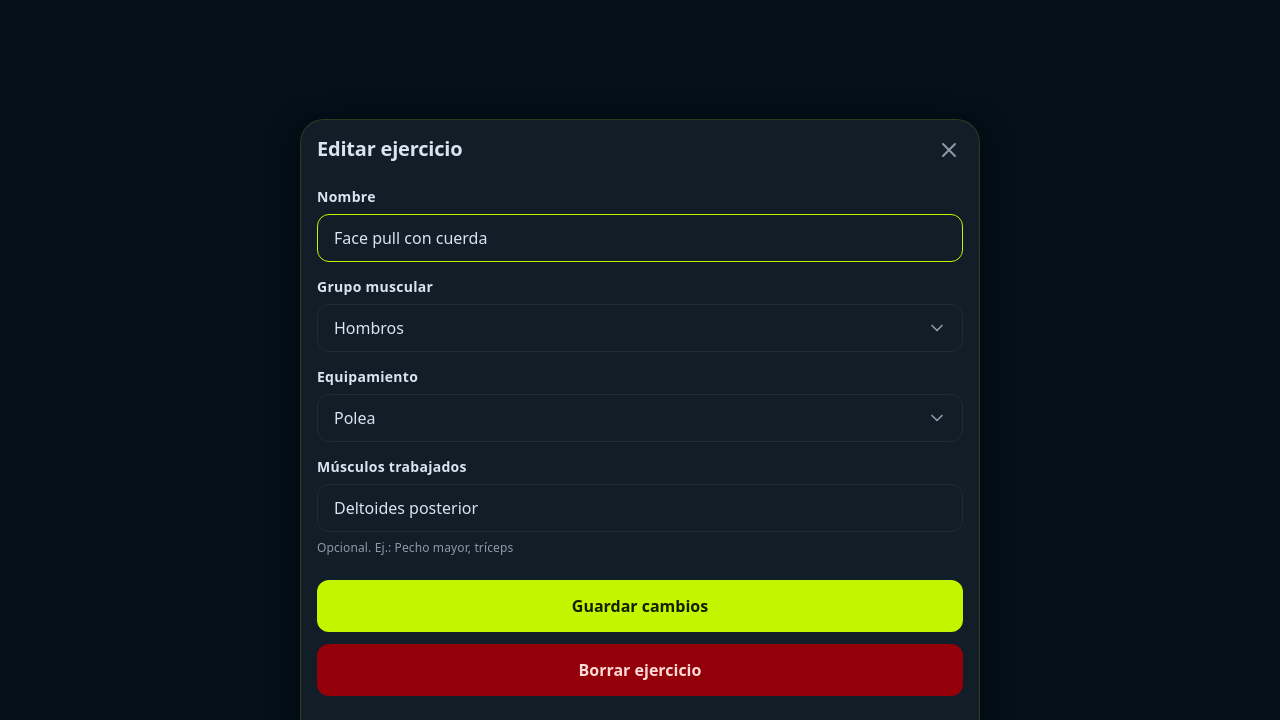
Test: ExerciseSheet: editar › no deja vaciar el nombre al editar
Clear the field labelled "Nombre": (640, 238) left=317, top=214, right=963, bottom=262
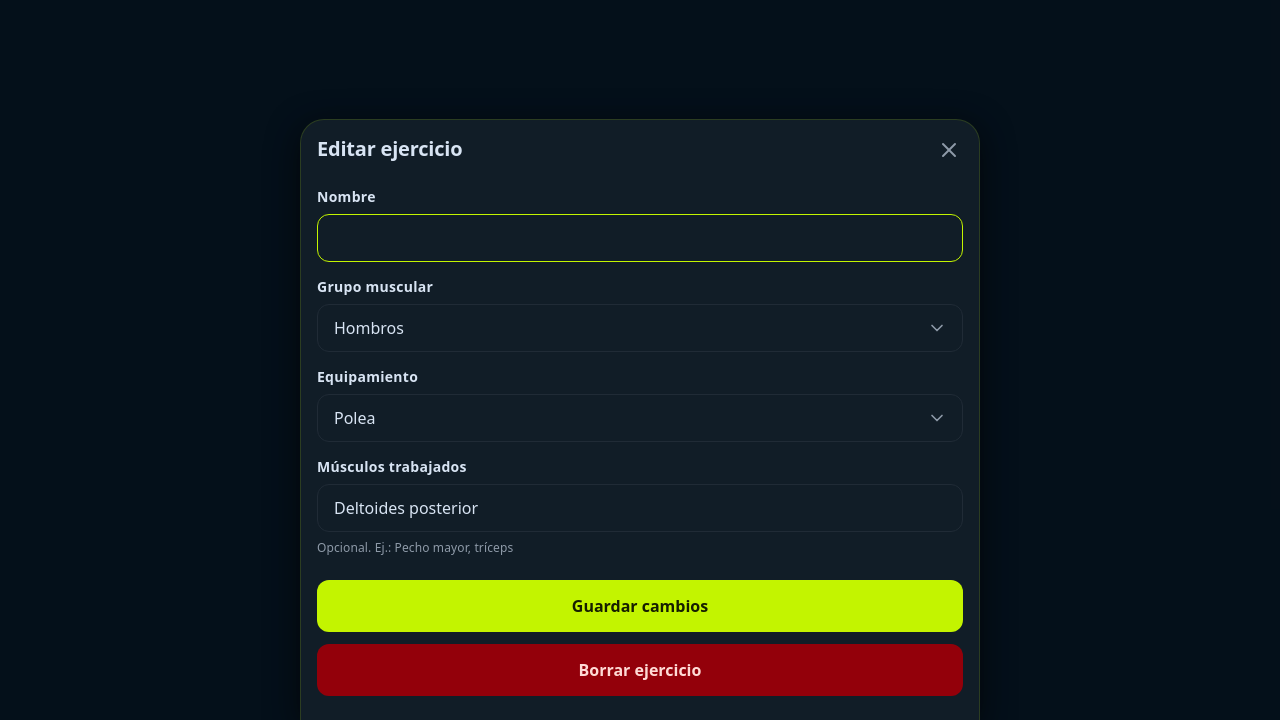
Click the button "Guardar cambios": (640, 606) left=317, top=580, right=963, bottom=632
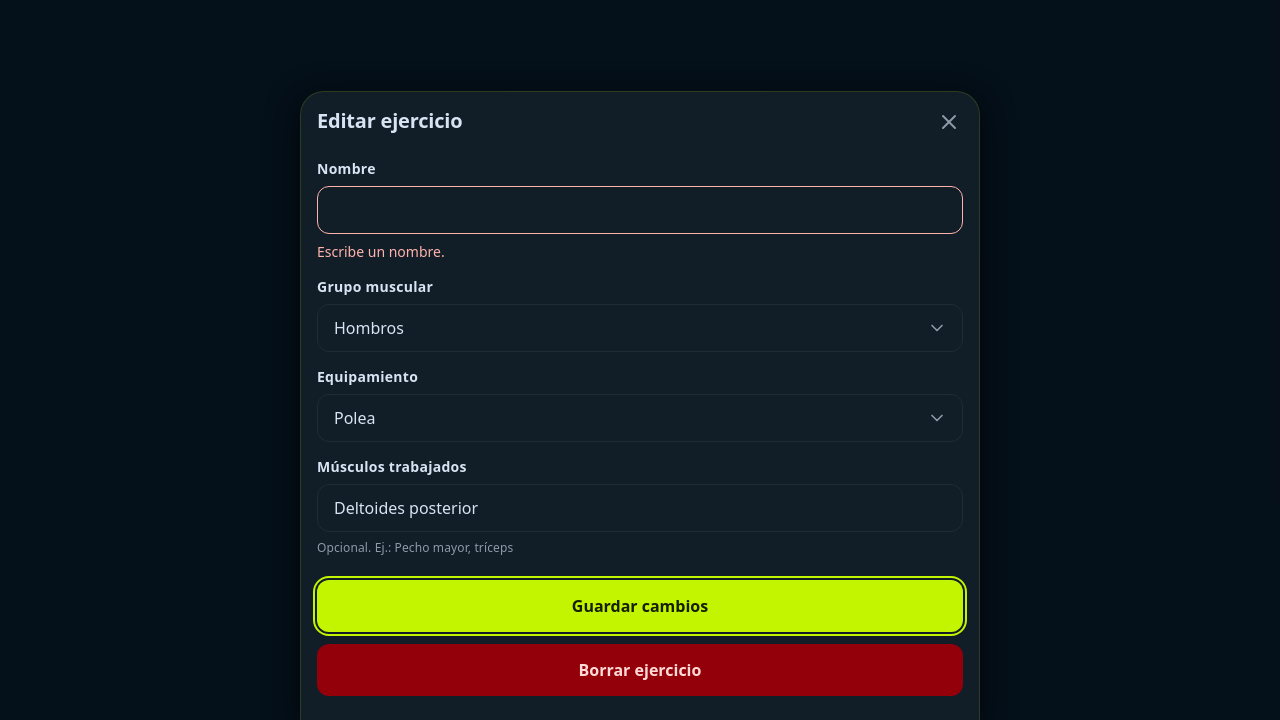
Check: the text "Escribe un nombre." is shown, box left=317, top=242, right=445, bottom=261
